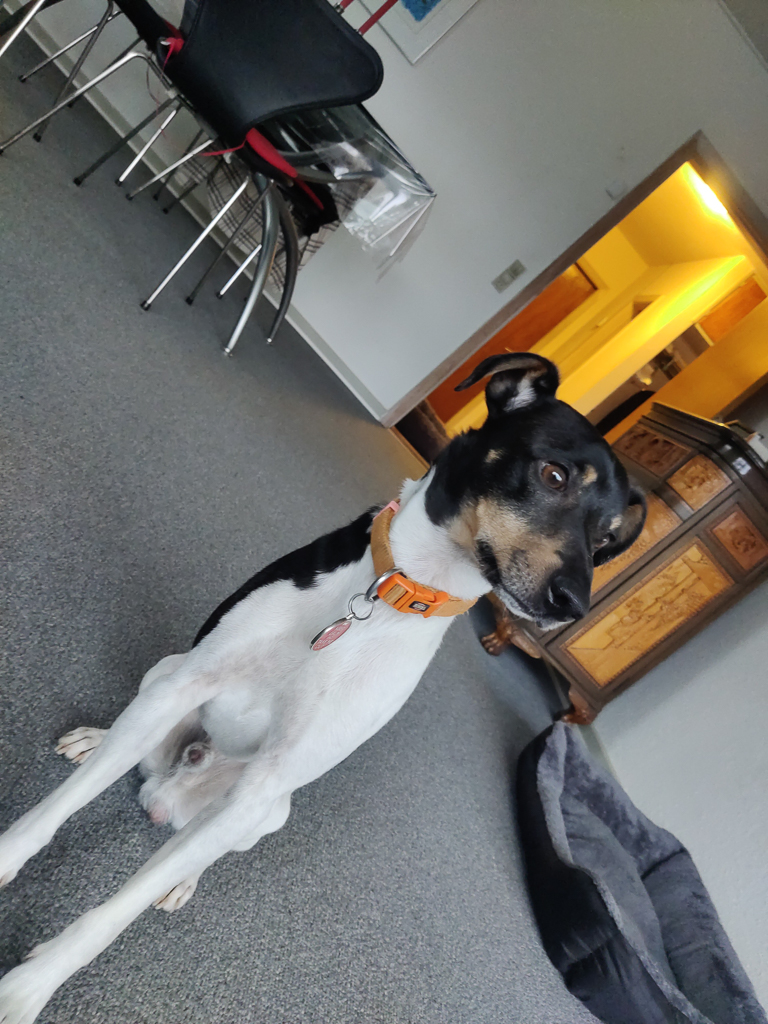Dog: (0, 340, 663, 1024)
